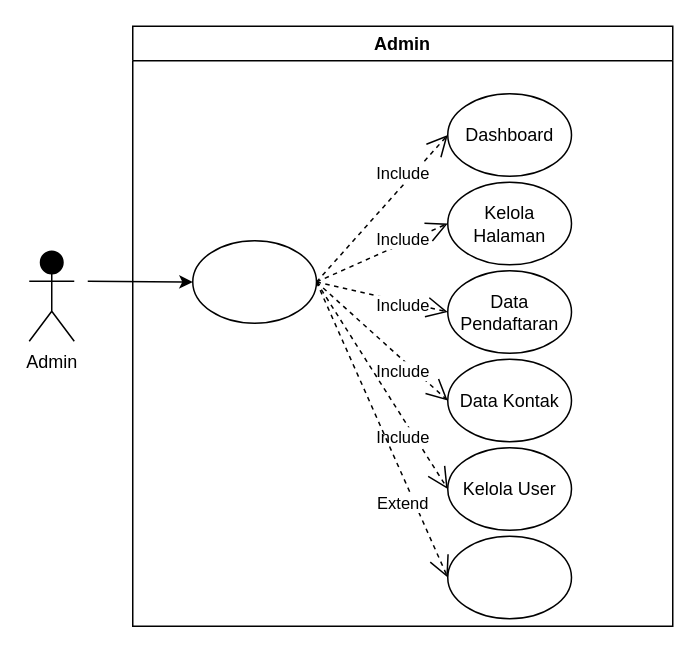
This 699x653 diagram has some shape labels left out. Here are the shapes that lost their labels. From the top down, the centre of each, then its label:
At point 253,281: "login".
At point 509,577: "Log Out".
